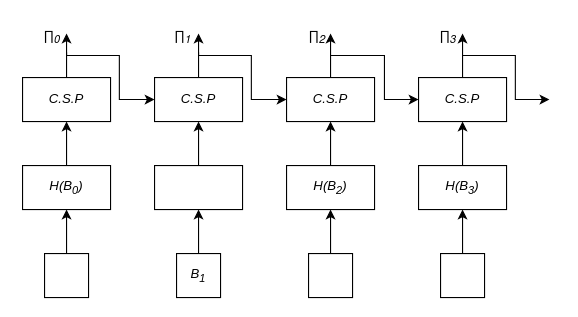
Some shapes in this 578 by 317 pixel diagram are drawn without their labels. Here are the shapes that lost their labels. From the top down, the centre of each, then its label:
(x=198, y=187): H( B 1 )
(x=66, y=275): B 0
(x=330, y=275): B 2
(x=462, y=275): B 3
